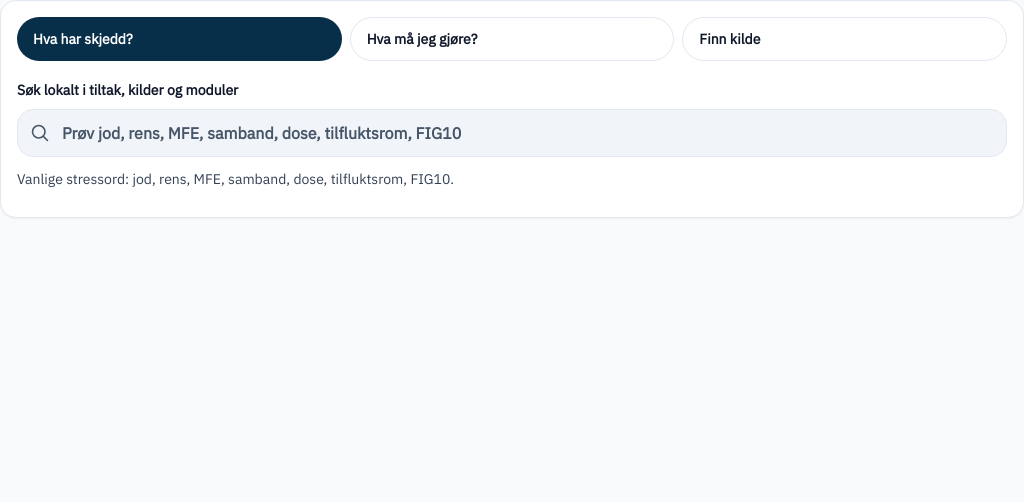
keeps implementation metadata behind details and leads with the first action
In the search field: (526, 133) 58,111 -> 994,155, type "pumpe"
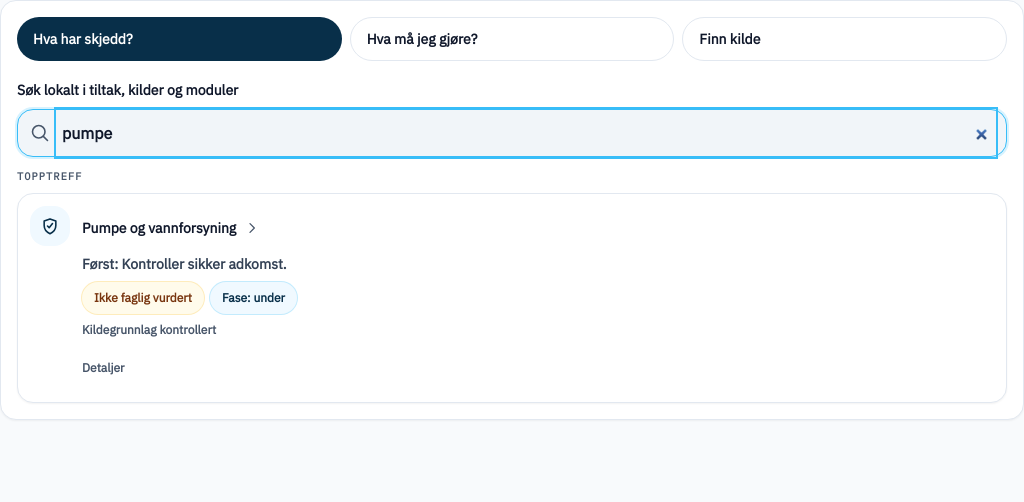
Check: the link "Pumpe og vannforsyning" is shown, box 82,219 -> 260,237
Check: the text "Først: Kontroller sikker adkomst." is shown, box 82,255 -> 287,273
Check: the text "Kildegrunnlag kontrollert" is shown, box 82,322 -> 216,337
Click the heading "Detaljer": (103, 367) 82,360 -> 124,375
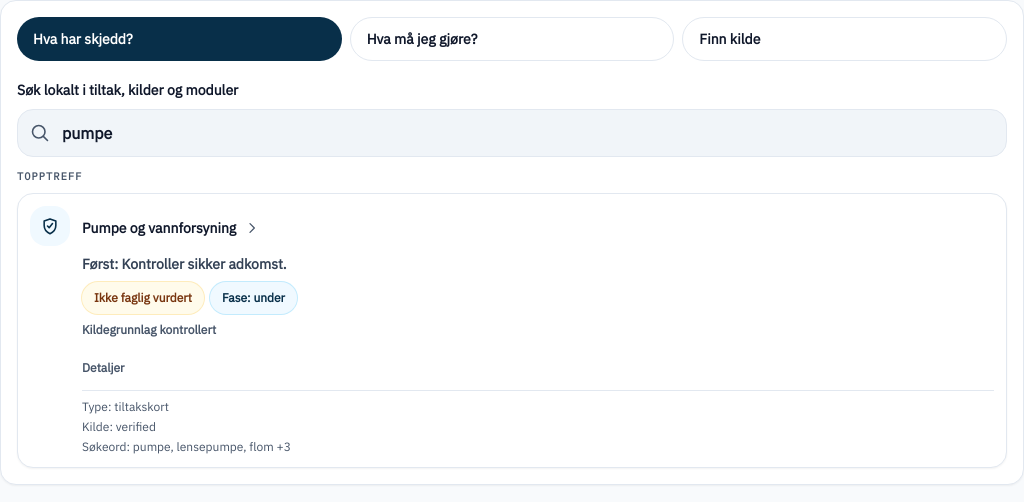
Check: the text "Søkeord: pumpe, lensepumpe, flom +3" is shown, box 82,439 -> 291,454
Check: the text "Kilde: verified" is shown, box 82,419 -> 156,434
